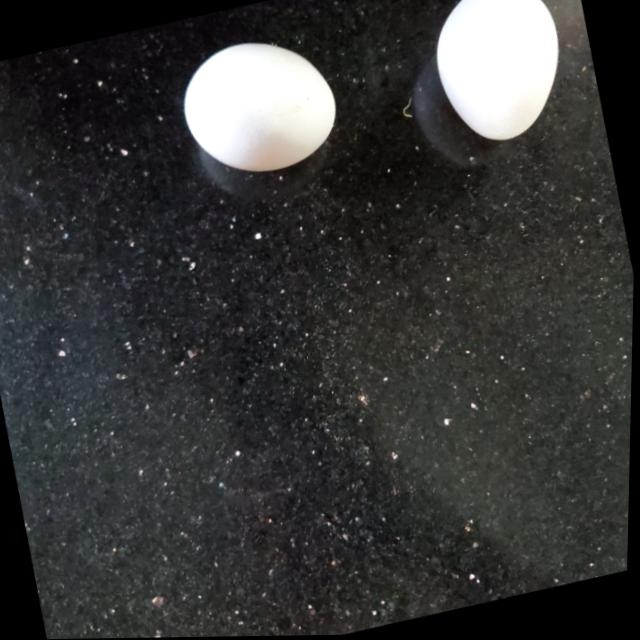egg: (167, 23, 350, 191), (421, 0, 578, 151)
